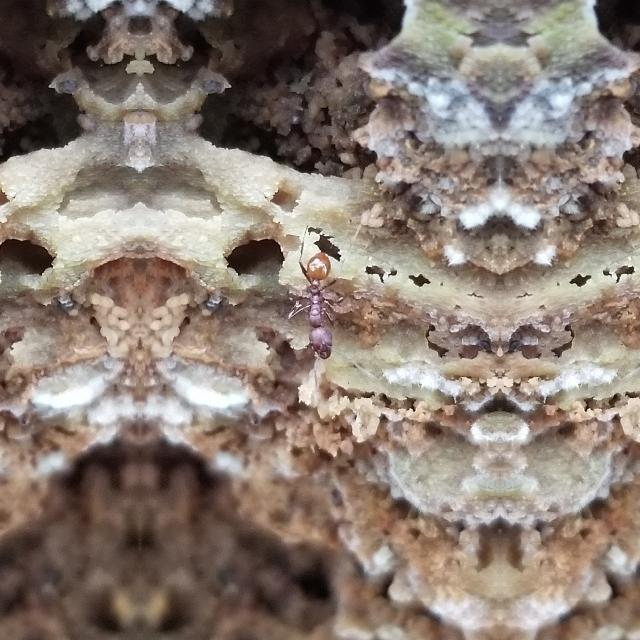Apheanogaster: (294, 230, 344, 370)
